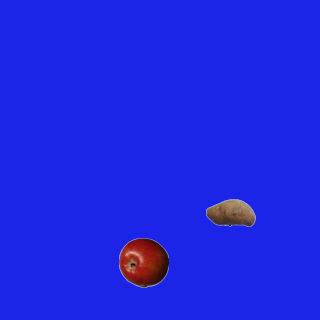Apple Braeburn: (118, 237, 168, 287)
Potato Sweet: (205, 187, 255, 237)
